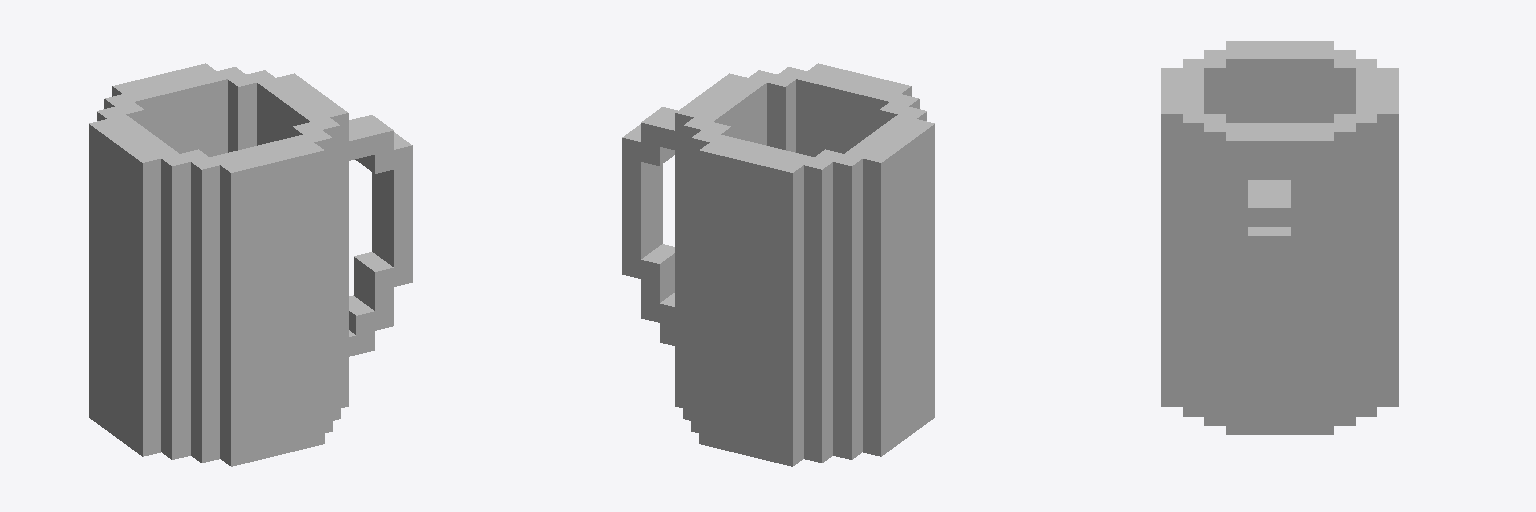
The model's file is cup.obj.
3 views of the same model, side by side, from view 1: azimuth 30°, elevation 25°; view 2: azimuth 150°, elevation 25°; view 3: azimuth 270°, elevation 25° (orthographic).
Visible parts, largest first — view 1: cup; view 2: cup; view 3: cup.
Boxes of the visible parts, box(x1,y1,x2,y2) form: cup: box(89, 63, 412, 466); cup: box(622, 63, 934, 466); cup: box(1161, 41, 1398, 434).
Size of the model in its own units: 30 by 30 by 22.